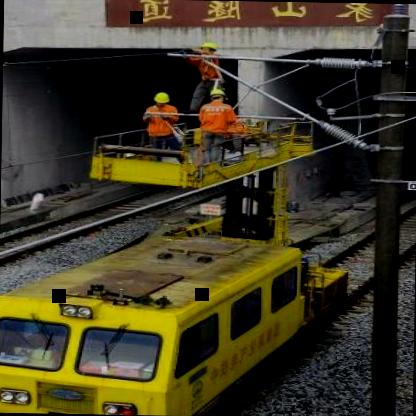helmet: (204, 85, 230, 106), (149, 87, 173, 106), (197, 39, 221, 57)
